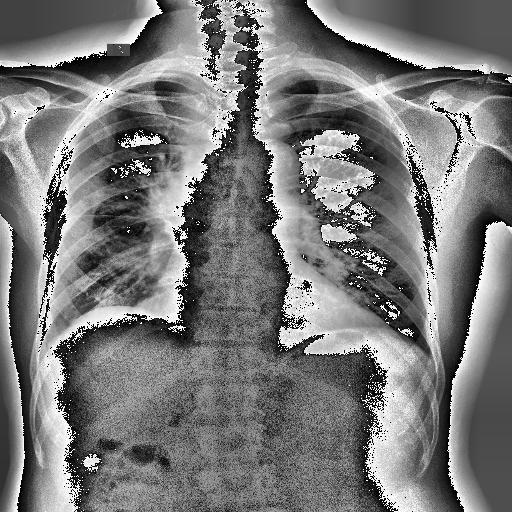0- Aortic enlargement: (235, 138, 301, 198), (244, 139, 304, 199)
11- Pleural thickening: (128, 69, 190, 81)
13- Pulmonary fibrosis: (84, 150, 168, 222)
3- Cardiomegaly: (156, 268, 394, 349), (132, 288, 384, 341)
6- Infiltration: (84, 150, 168, 222)
7- Lung Opacity: (143, 170, 209, 238), (149, 180, 210, 242)
8- Nodule-Mass: (148, 162, 218, 256), (149, 180, 210, 242)
